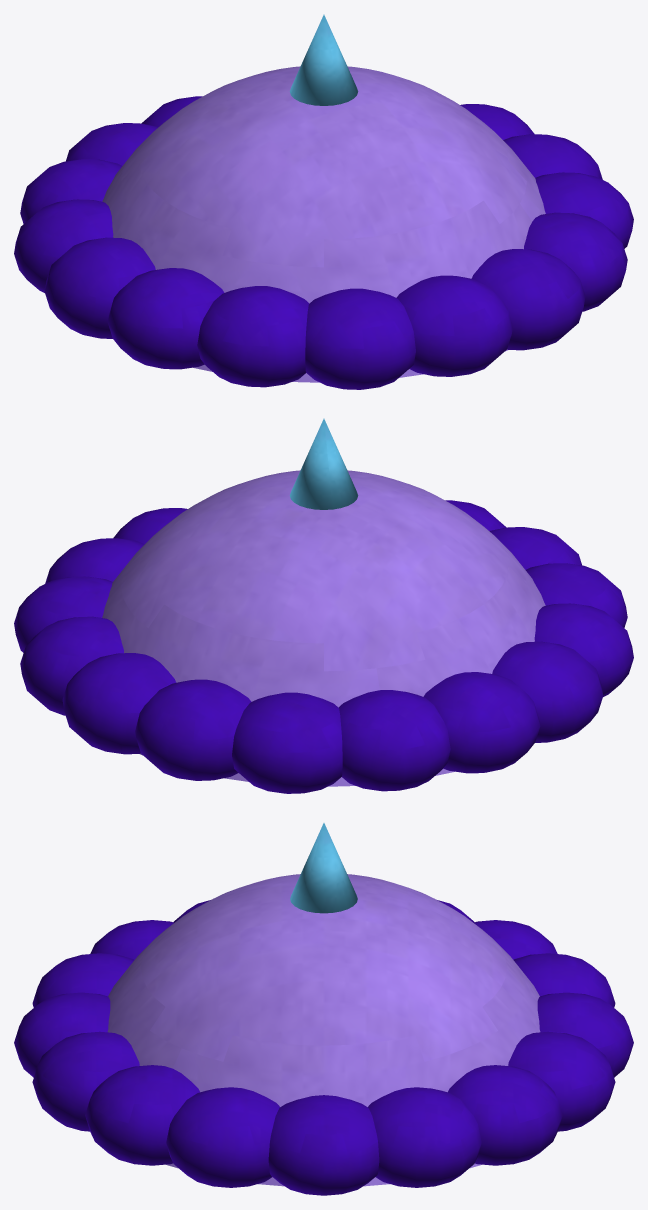
The picture shows the model from 3 angles, top to bottom: view 1: azimuth 30°, elevation 25°; view 2: azimuth 150°, elevation 25°; view 3: azimuth 270°, elevation 25°; orthographic projection.
Parts seen in each view (by area): view 1: Skirt, Dome, Horn; view 2: Skirt, Dome, Horn; view 3: Skirt, Dome, Horn.
Boxes of the visible parts, box(x1,y1,x2,y2) form: Skirt: box(14, 96, 633, 389); Dome: box(102, 66, 545, 382); Horn: box(289, 14, 358, 105); Skirt: box(14, 500, 633, 793); Dome: box(102, 470, 545, 786); Horn: box(289, 418, 358, 509); Skirt: box(14, 900, 633, 1195); Dome: box(107, 874, 540, 1186); Horn: box(290, 823, 357, 913).
Size of the model in its own units: 0.4604 by 0.2158 by 0.4604.
Materials: 3 (3 with a texture image).
